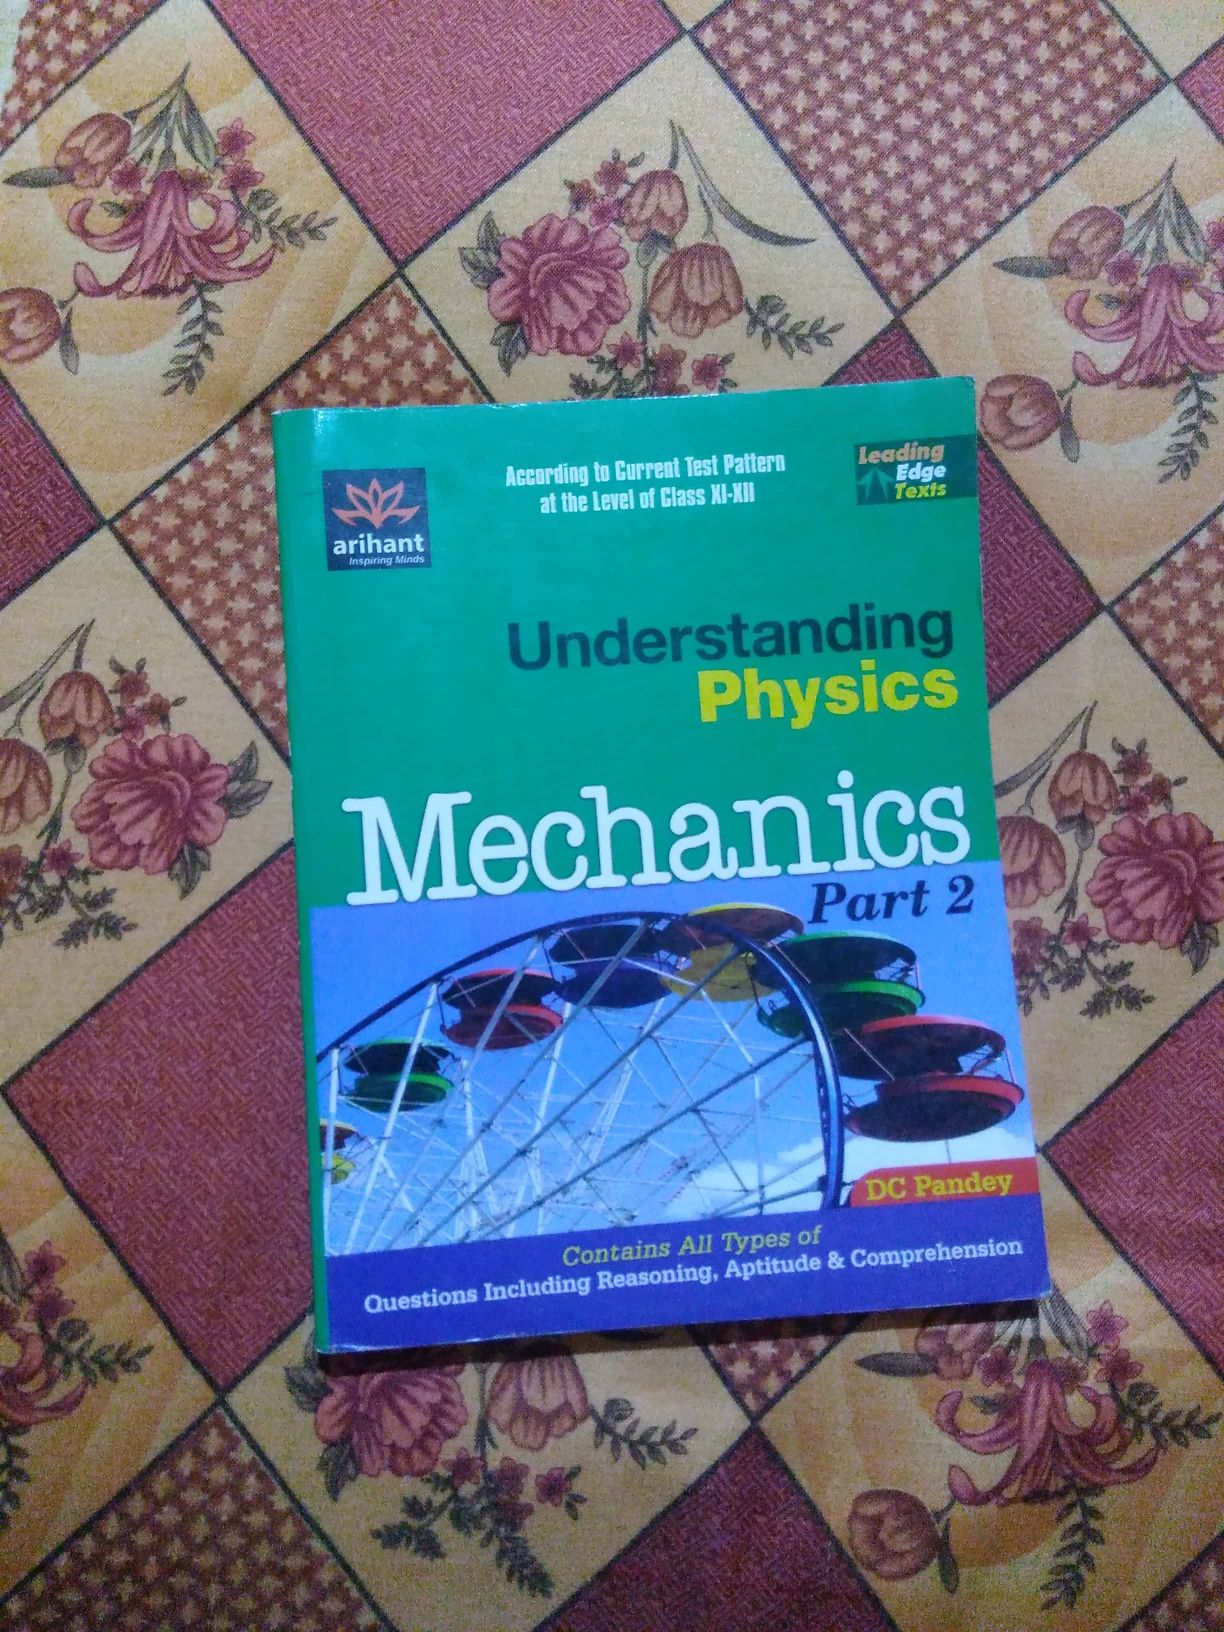mechanics: (246, 371, 1068, 1383)
